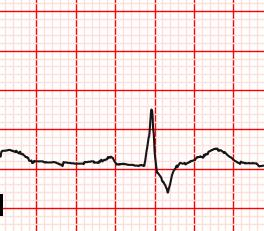ST Depression: (134, 159, 175, 196)
